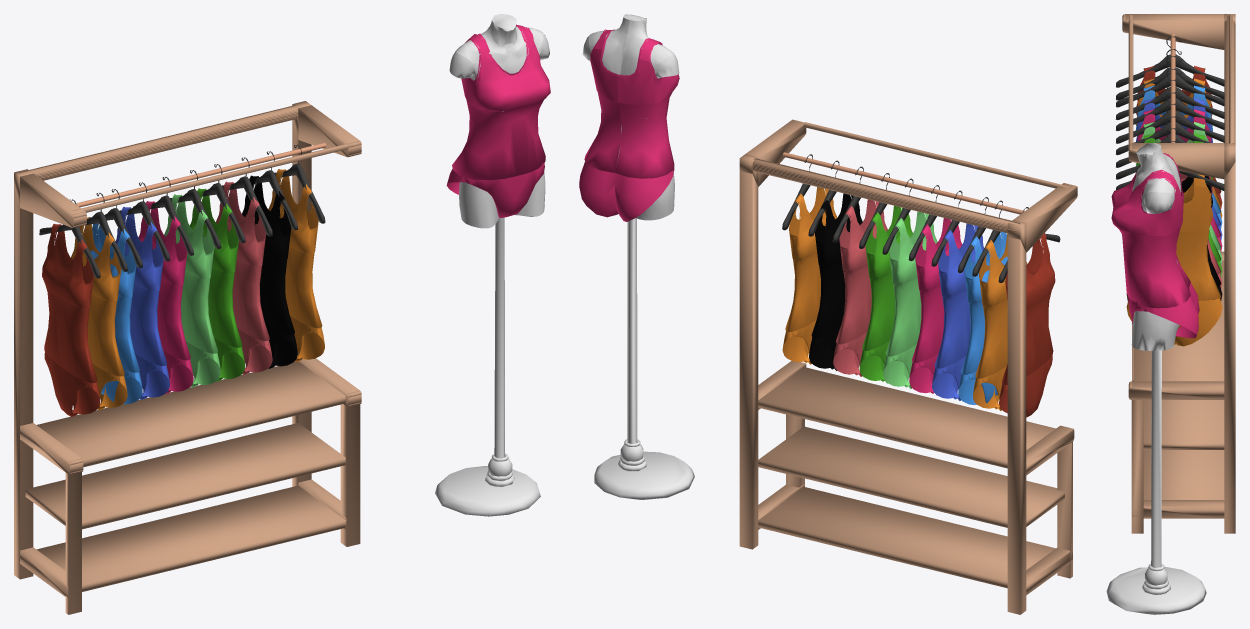
The model's file is Swimsuit.fbx.
3 renders of one model, left to right at view 1: azimuth 30°, elevation 25°; view 2: azimuth 150°, elevation 25°; view 3: azimuth 270°, elevation 25°, orthographic. The views are drawn at different scales.
Parts seen in each view (by area): view 1: Pattern2D_5081.001, Swimwear_manneqiun, a_fuku_07.011, a_fuku_07.006, a_fuku_07.004, a_fuku_07.002, a_fuku_07.008, a_fuku_07.010, a_fuku_07.003, a_fuku_07.005, a_fuku_07.007, a_fuku_07.009 (+1 smaller); view 2: Pattern2D_5081.001, Swimwear_manneqiun, a_fuku_07.004, a_fuku_07.006, a_fuku_07.002, a_fuku_07.008, a_fuku_07.011, a_fuku_07.003, a_fuku_07.005, a_fuku_07.007, a_fuku_07.010, a_fuku_07.009 (+1 smaller); view 3: Pattern2D_5081.001, Swimwear_manneqiun, a_fuku_07.002, Final.082, Final.084, Final.051, Final.068, Final.044, Final.083, Cylinder.005, Final.043, a_fuku_07.007 (+11 smaller).
Boxes of the visible parts, x1,y1,x2,y2 form: Pattern2D_5081.001: [14, 101, 361, 614]; Swimwear_manneqiun: [435, 14, 550, 516]; a_fuku_07.011: [42, 223, 100, 416]; a_fuku_07.006: [164, 194, 220, 387]; a_fuku_07.004: [216, 181, 272, 374]; a_fuku_07.002: [268, 169, 324, 362]; a_fuku_07.008: [115, 207, 169, 399]; a_fuku_07.010: [71, 217, 127, 410]; a_fuku_07.003: [242, 175, 297, 368]; a_fuku_07.005: [190, 188, 245, 381]; a_fuku_07.007: [138, 201, 193, 394]; a_fuku_07.009: [90, 223, 142, 404]; Pattern2D_5081.001: [739, 119, 1077, 614]; Swimwear_manneqiun: [579, 14, 694, 499]; a_fuku_07.004: [833, 199, 887, 376]; a_fuku_07.006: [883, 211, 937, 389]; a_fuku_07.002: [782, 187, 837, 364]; a_fuku_07.008: [932, 223, 984, 400]; a_fuku_07.011: [999, 233, 1055, 417]; a_fuku_07.003: [809, 193, 862, 370]; a_fuku_07.005: [859, 205, 912, 383]; a_fuku_07.007: [909, 218, 962, 395]; a_fuku_07.010: [973, 233, 1027, 410]; a_fuku_07.009: [958, 232, 1007, 404]; Pattern2D_5081.001: [1122, 14, 1235, 533]; Swimwear_manneqiun: [1106, 143, 1206, 614]; a_fuku_07.002: [1126, 174, 1222, 346]; Final.082: [1116, 56, 1224, 107]; Final.084: [1116, 36, 1224, 87]; Final.051: [1115, 79, 1224, 130]; Final.068: [1115, 68, 1224, 119]; Final.044: [1116, 92, 1224, 143]; Final.083: [1116, 49, 1224, 100]; Cylinder.005: [1170, 34, 1175, 142]; Final.043: [1115, 103, 1211, 155]; a_fuku_07.007: [1137, 109, 1222, 252].
Bounding box in the file's own units: 391 × 364 × 92.97.
